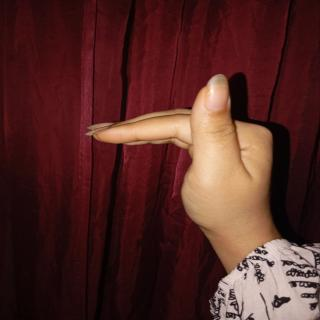KHAA: (79, 64, 290, 242)
